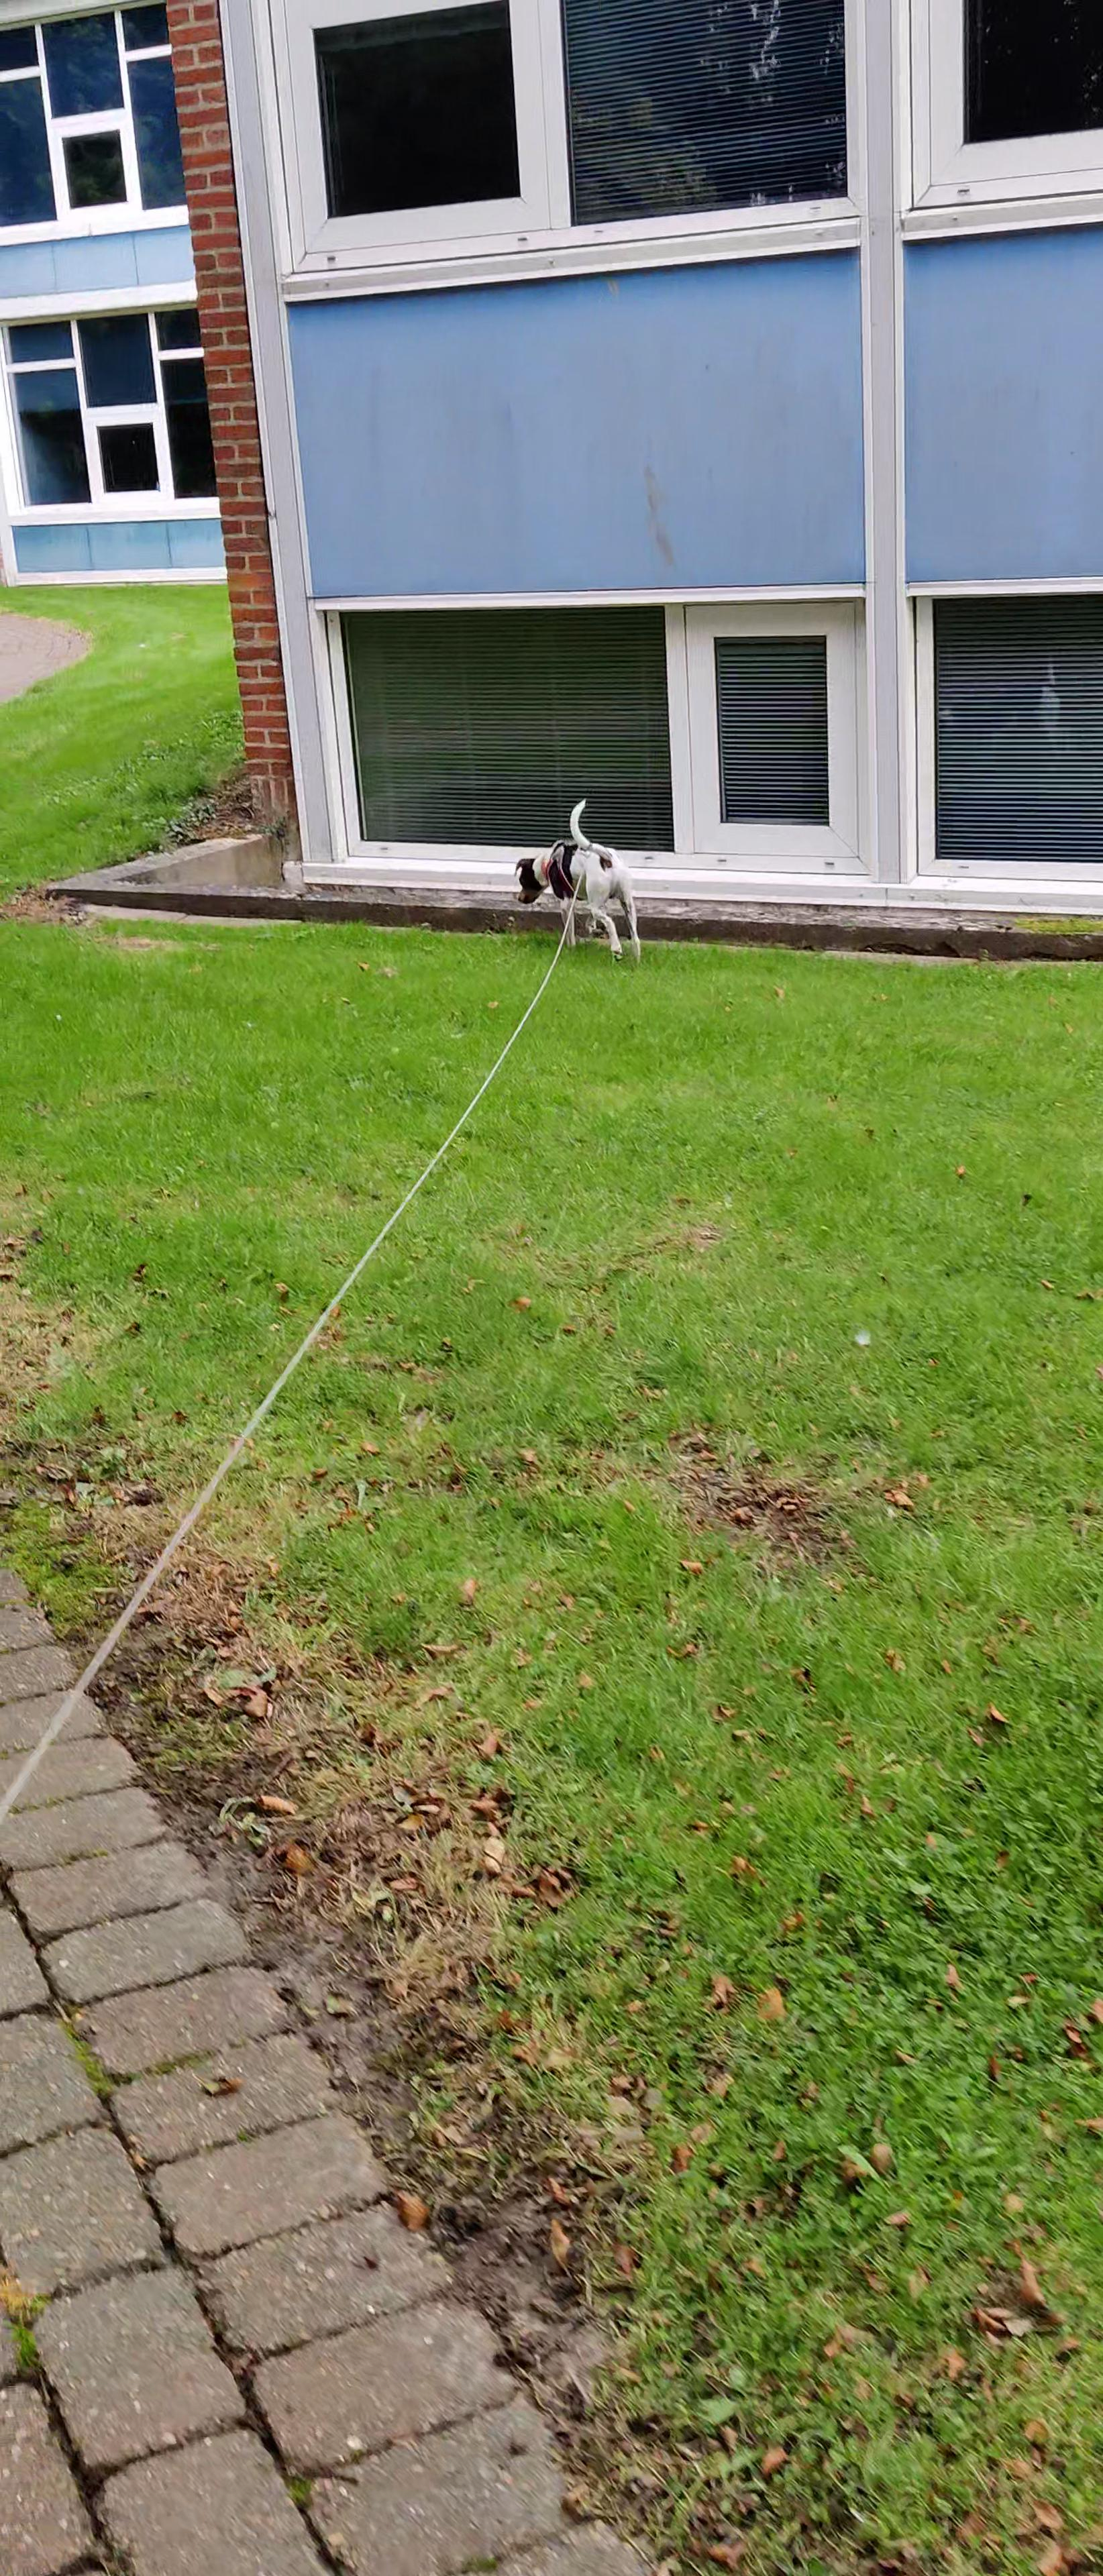Dog: (511, 795, 643, 963)
